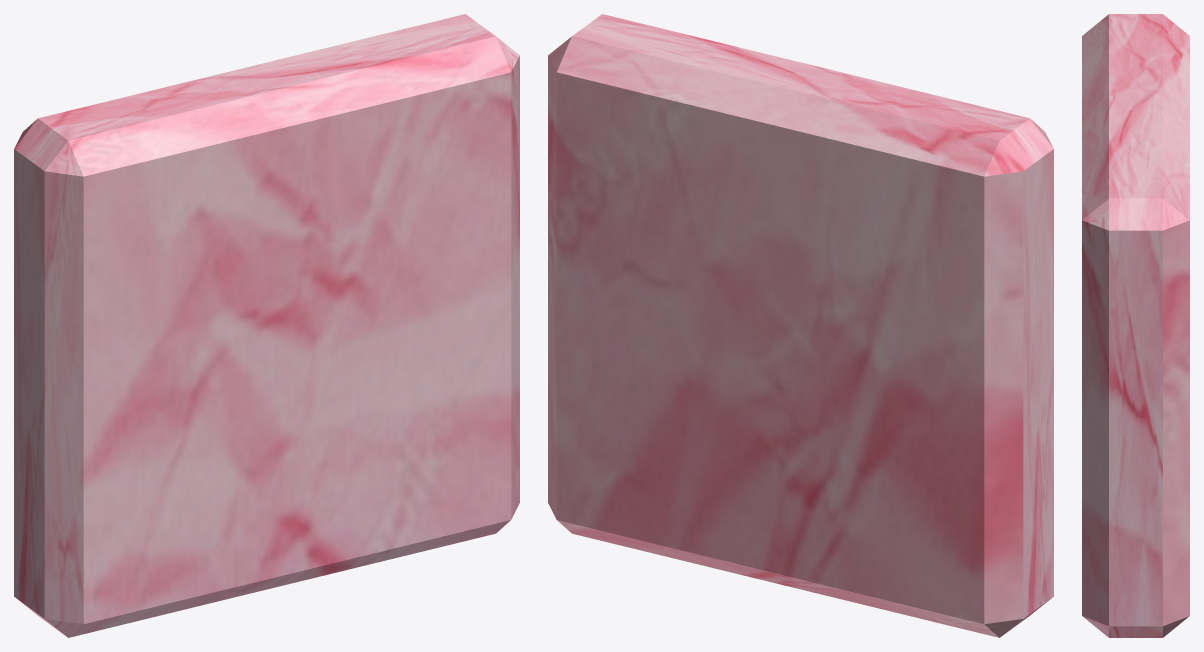
The model's file is libro4.obj.
The picture shows the model from 3 angles, left to right: view 1: azimuth 30°, elevation 25°; view 2: azimuth 150°, elevation 25°; view 3: azimuth 270°, elevation 25°; orthographic projection. The views are drawn at different scales.
Parts seen in each view (by area): view 1: pasted__pasted__pasted__pCube8 pasted__pasted__group pasted__gro; view 2: pasted__pasted__pasted__pCube8 pasted__pasted__group pasted__gro; view 3: pasted__pasted__pasted__pCube8 pasted__pasted__group pasted__gro.
Boxes of the visible parts, box(x1,y1,x2,y2) form: pasted__pasted__pasted__pCube8 pasted__pasted__group pasted__gro: box(14, 14, 519, 637); pasted__pasted__pasted__pCube8 pasted__pasted__group pasted__gro: box(548, 14, 1053, 637); pasted__pasted__pasted__pCube8 pasted__pasted__group pasted__gro: box(1082, 14, 1189, 637).
Size of the model in its own units: 0.9 by 0.9 by 0.2.
1 material, 1 textured.
